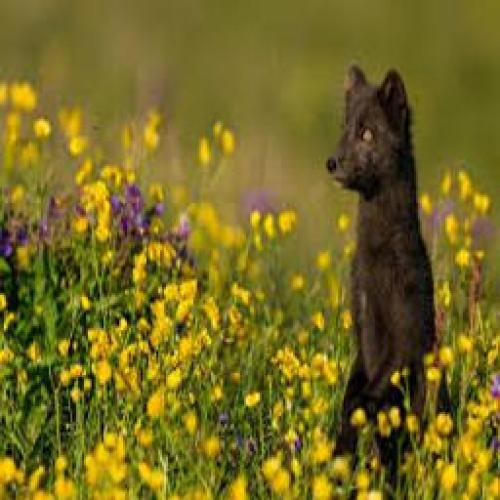arctic_fox-endangered: (324, 57, 464, 463)
